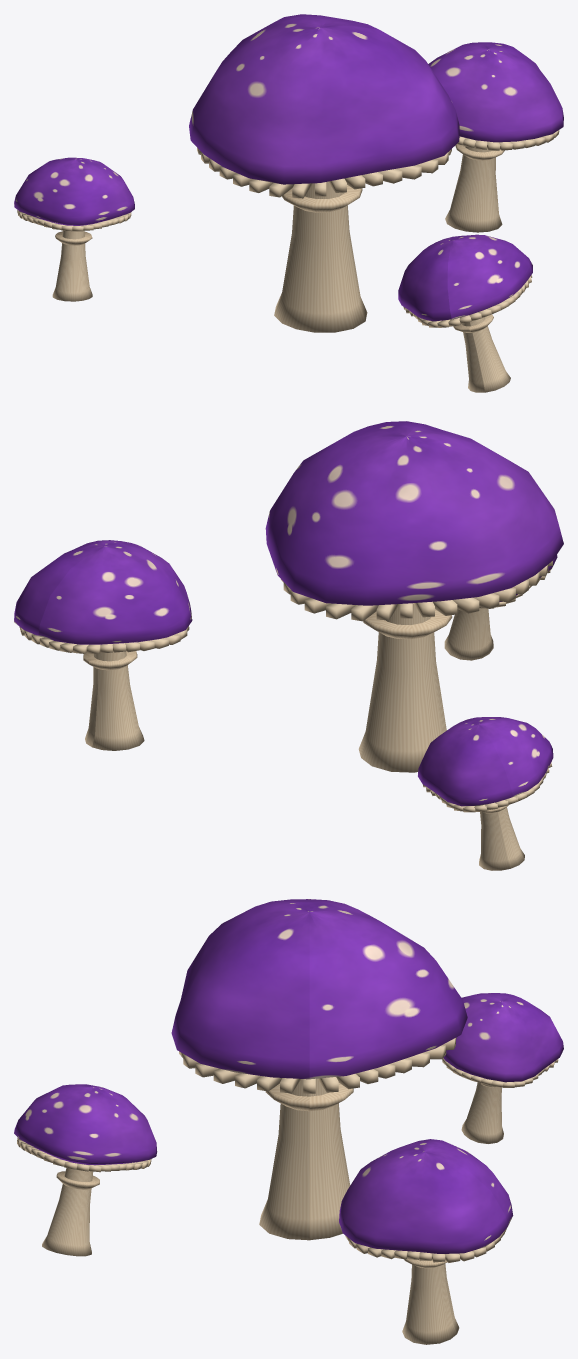
File: mushroom_cluster.glb
3 views of the same model, one above another, from view 1: azimuth 30°, elevation 25°; view 2: azimuth 150°, elevation 25°; view 3: azimuth 270°, elevation 25° (orthographic). The views are drawn at different scales.
Parts seen in each view (by area): view 1: mushroom_cluster__cap, mushroom_cluster__stem; view 2: mushroom_cluster__cap, mushroom_cluster__stem; view 3: mushroom_cluster__cap, mushroom_cluster__stem.
Boxes of the visible parts, x1,y1,x2,y2 form: mushroom_cluster__cap: (14,14,563,321); mushroom_cluster__stem: (17,130,559,392); mushroom_cluster__cap: (14,421,563,806); mushroom_cluster__stem: (19,561,552,870); mushroom_cluster__cap: (14,899,563,1253); mushroom_cluster__stem: (17,1037,558,1344).
Bounding box in the file's own units: 1.78 × 0.9966 × 1.59.
Materials: 2 (2 with a texture image).
